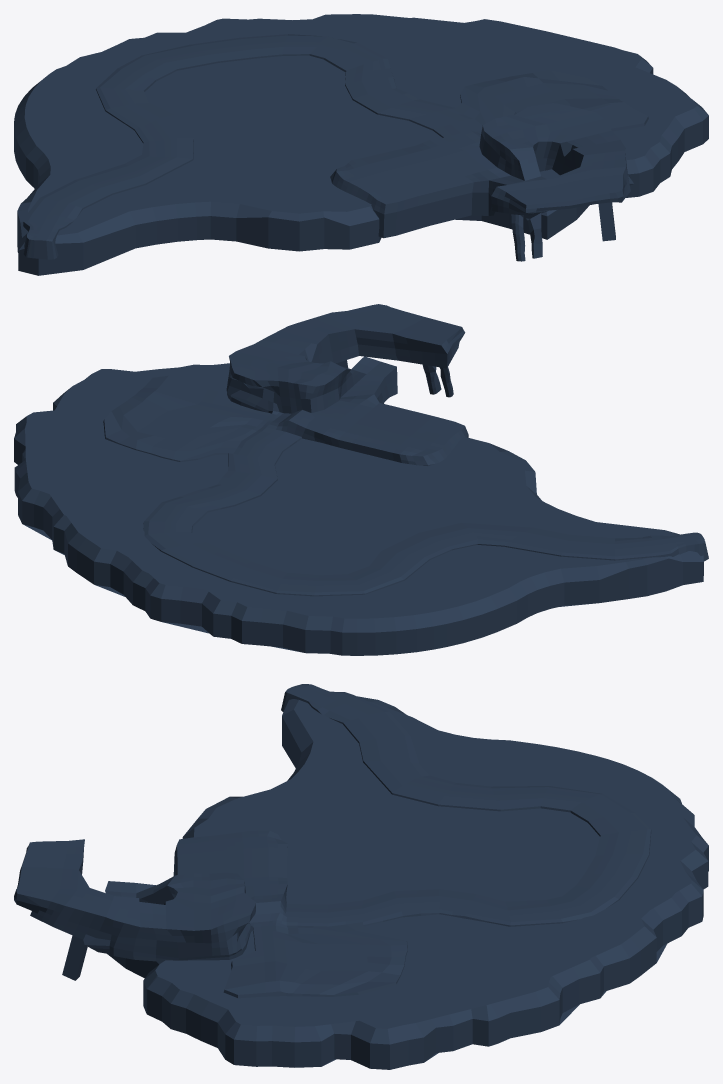
Rendered from islandProto3.fbx.
3 renders of one model, top to bottom at view 1: azimuth 30°, elevation 25°; view 2: azimuth 150°, elevation 25°; view 3: azimuth 270°, elevation 25°, orthographic. The views are drawn at different scales.
Visible parts, largest first — view 1: road; view 2: road; view 3: road.
Part boxes in pixels (x1,y1,x2,y2): road: (14, 14, 708, 275); road: (14, 304, 708, 655); road: (14, 684, 708, 1069).
Bounding box in the file's own units: 40065 × 4370 × 33568.
